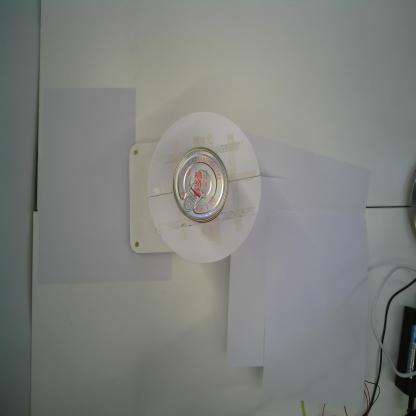Canned Food: (172, 147, 228, 223)
